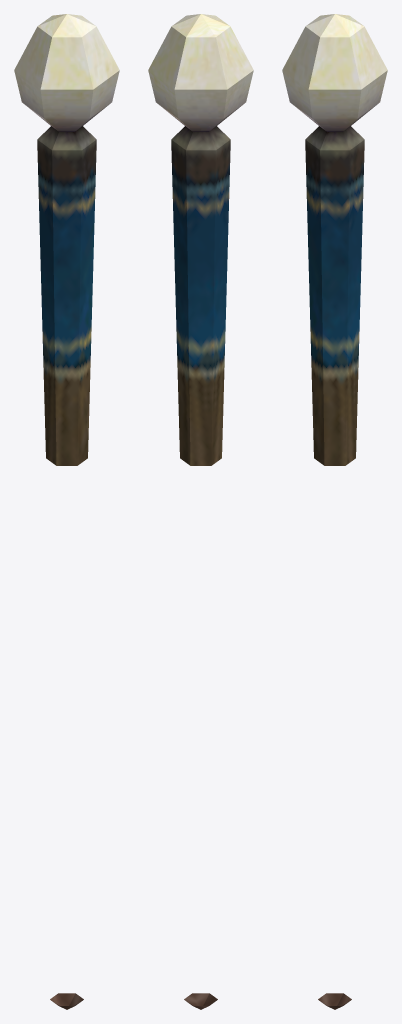
The model's file is Bat_commonWand.obj.
3 views of the same model, side by side, from view 1: azimuth 90°, elevation 25°; view 2: azimuth 210°, elevation 25°; view 3: azimuth 270°, elevation 25° (orthographic).
Visible parts, largest first — view 1: Bat_commonWand_tri; view 2: Bat_commonWand_tri; view 3: Bat_commonWand_tri.
Part boxes in pixels (x1=…): Bat_commonWand_tri: x1=14, y1=14, x2=119, y2=1009; Bat_commonWand_tri: x1=148, y1=14, x2=253, y2=1009; Bat_commonWand_tri: x1=282, y1=14, x2=387, y2=1009.
Size of the model in its own units: 0.0477 by 0.5723 by 0.055.
1 material, 1 textured.
